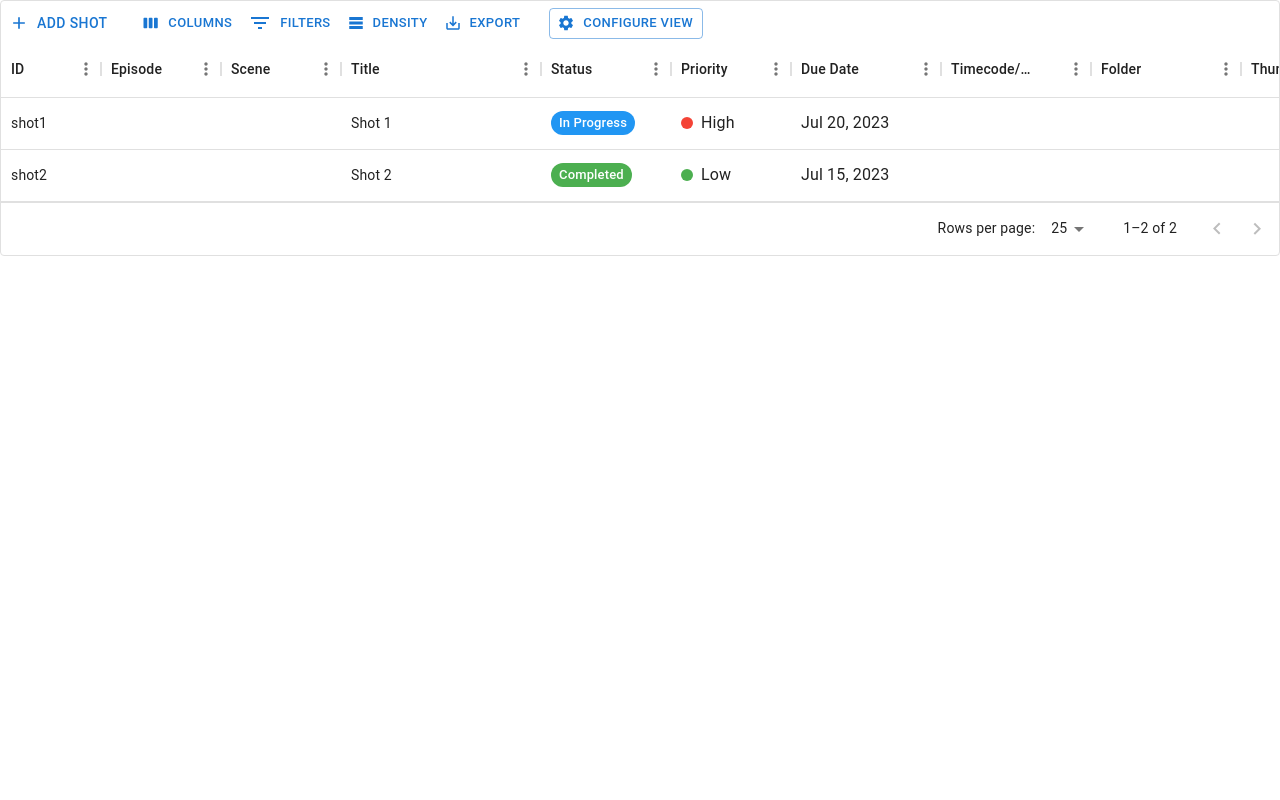
Test: ShotTable › opens and closes the add shot dialog
Click the button "Add Shot": (60, 23) [5,5,115,42]
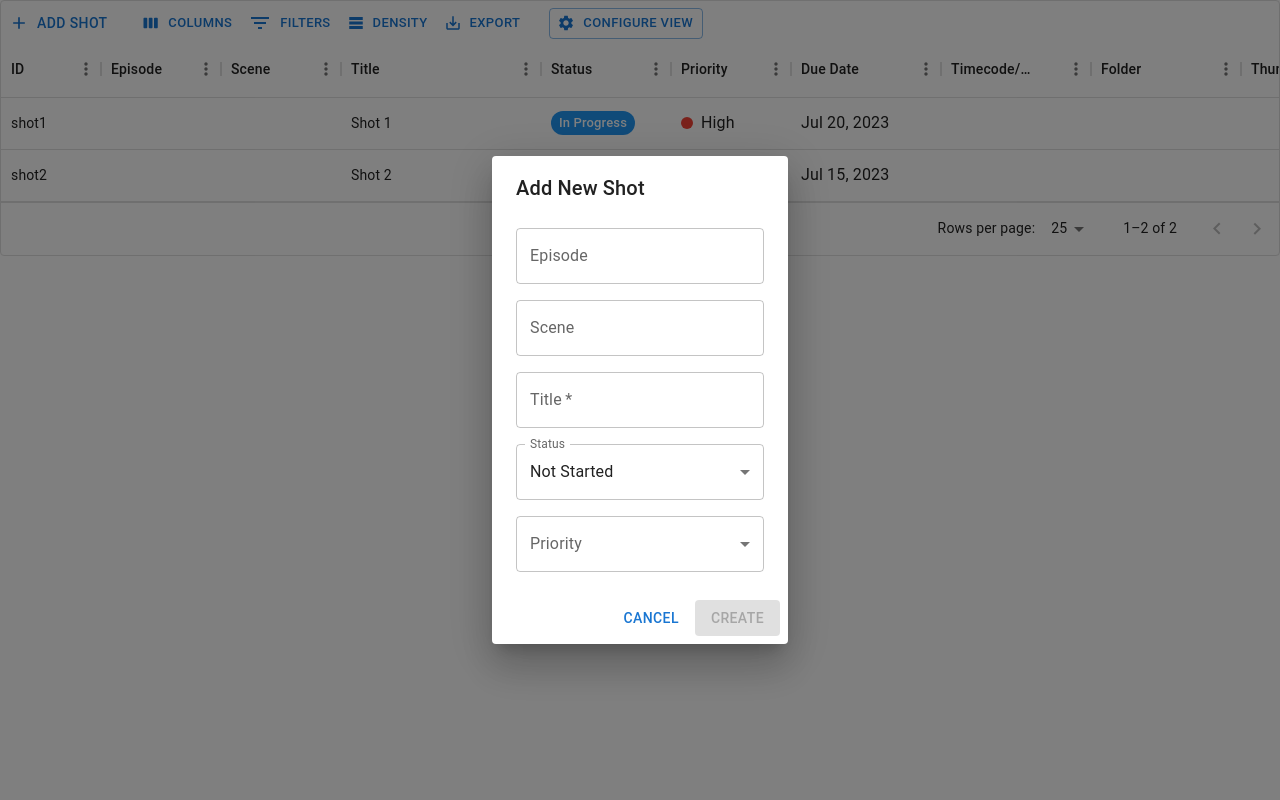
Expected: the heading "Add New Shot" is shown, [516,176,645,200]
Click the button "Cancel": (651, 618) [615,600,687,636]
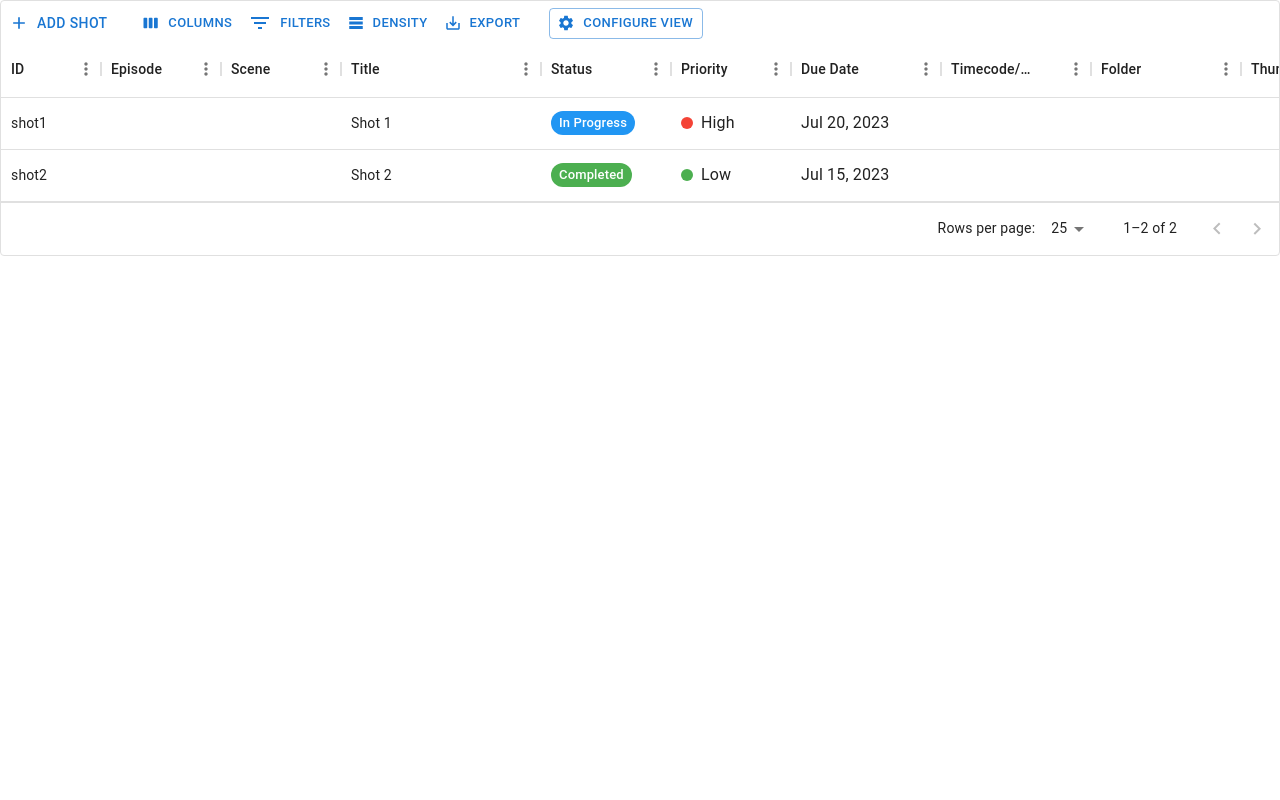
Expected: the heading "Add New Shot" is gone
